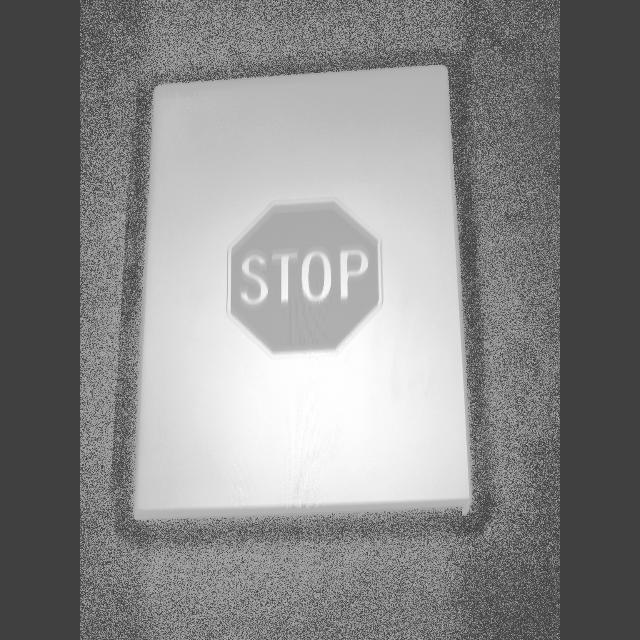STOP: (226, 200, 384, 352)
